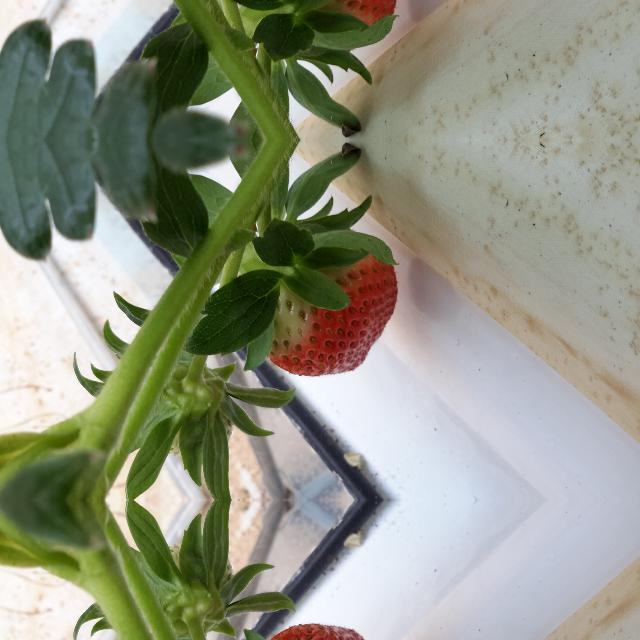Health_100: (268, 254, 398, 376), (268, 0, 398, 26)
